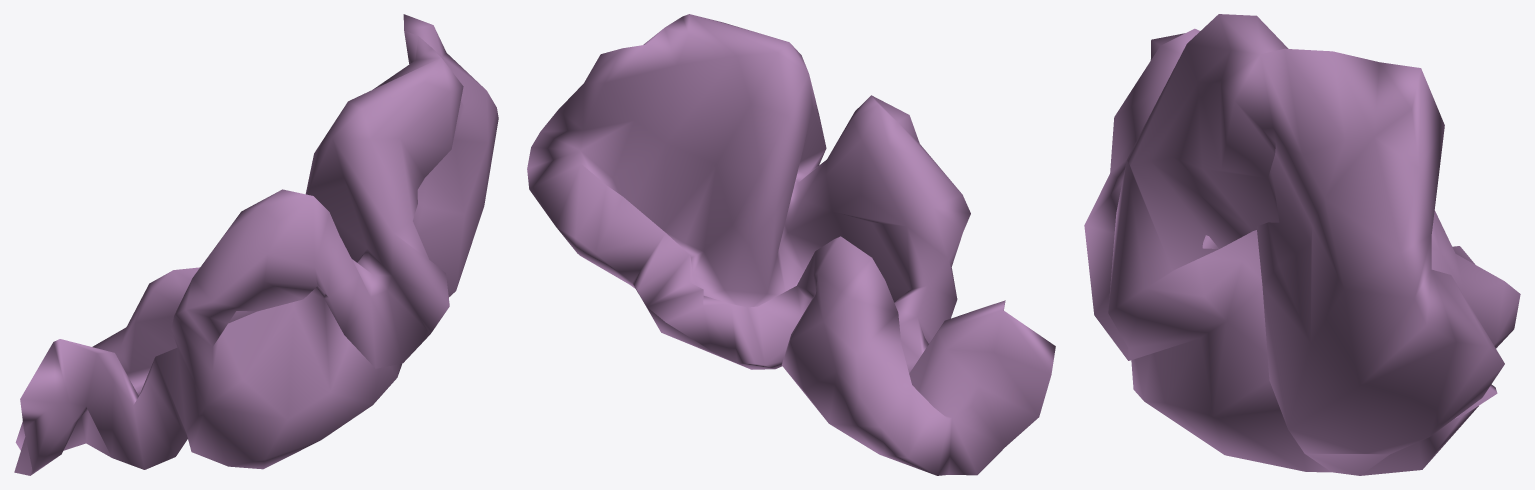
The picture shows the model from 3 angles, left to right: view 1: azimuth 30°, elevation 25°; view 2: azimuth 150°, elevation 25°; view 3: azimuth 270°, elevation 25°; orthographic projection. The views are drawn at different scales.
Parts seen in each view (by area): view 1: 左侧额缘回与额缘沟; view 2: 左侧额缘回与额缘沟; view 3: 左侧额缘回与额缘沟.
Part boxes in pixels (x1=…): 左侧额缘回与额缘沟: x1=14, y1=14, x2=498, y2=475; 左侧额缘回与额缘沟: x1=527, y1=14, x2=1055, y2=475; 左侧额缘回与额缘沟: x1=1084, y1=14, x2=1520, y2=475.
Bounding box in the file's own units: 0.0585 × 0.0395 × 0.029.
